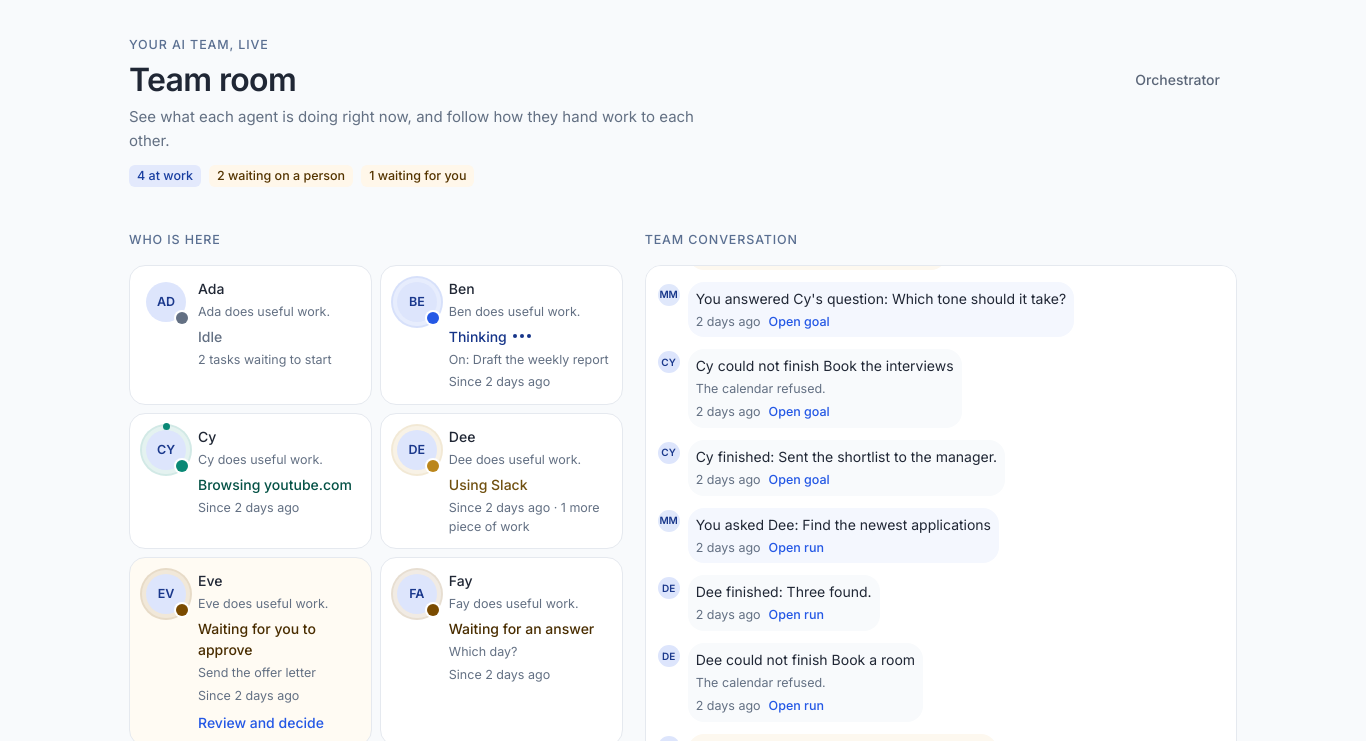
Team room page › opens what an agent is doing: its current run, with the way to the full trace
The image size is (1366, 741).
(page scrolled)
Click the button that starts with "Ben".
click(501, 335)  # box [381, 266, 622, 404]
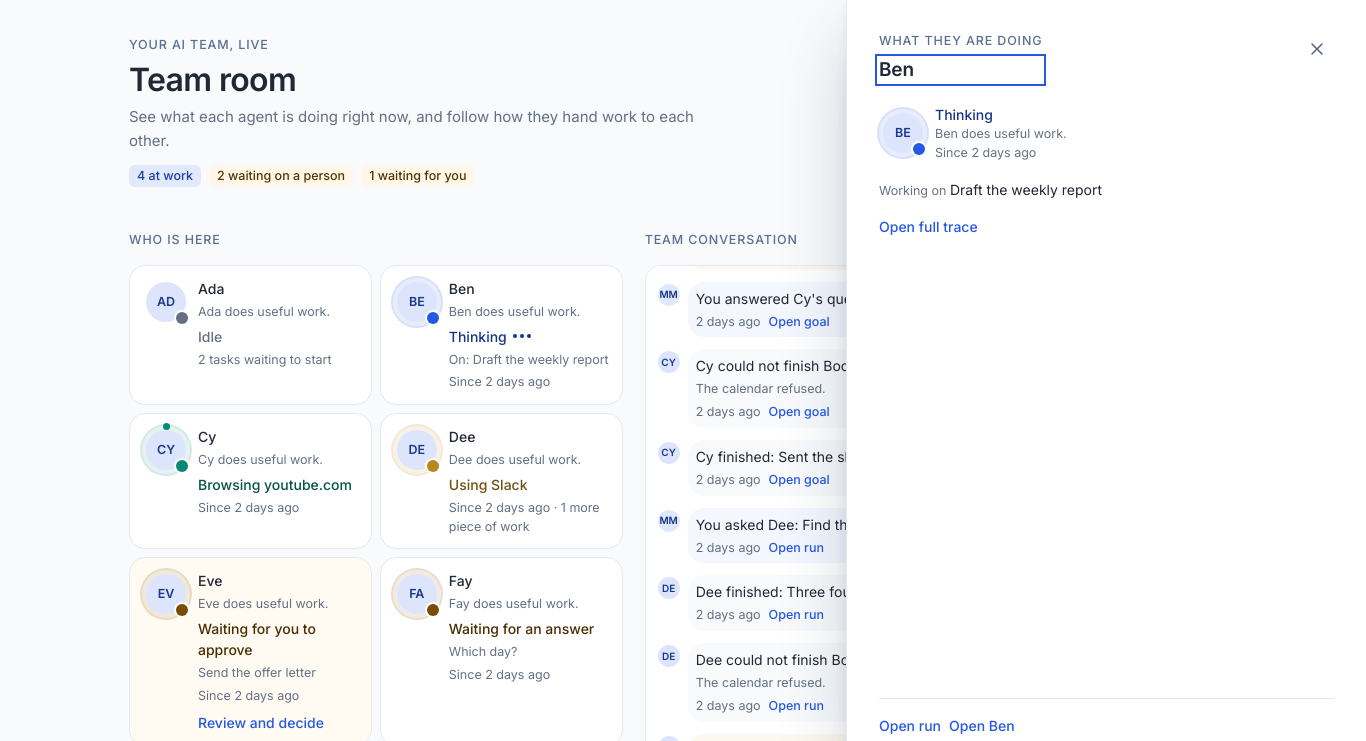
Expected: the heading "Ben" is shown, [879, 58, 914, 80]
